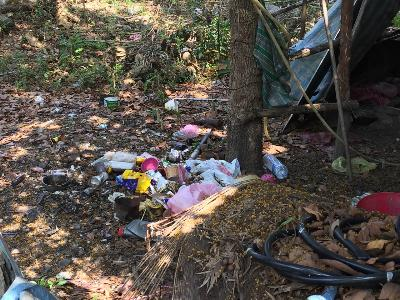bottle: (261, 151, 291, 182)
bowl: (41, 172, 71, 195), (140, 157, 159, 173), (104, 96, 119, 109)
plastic_bag: (259, 14, 290, 104), (185, 159, 241, 187), (168, 183, 210, 213)
